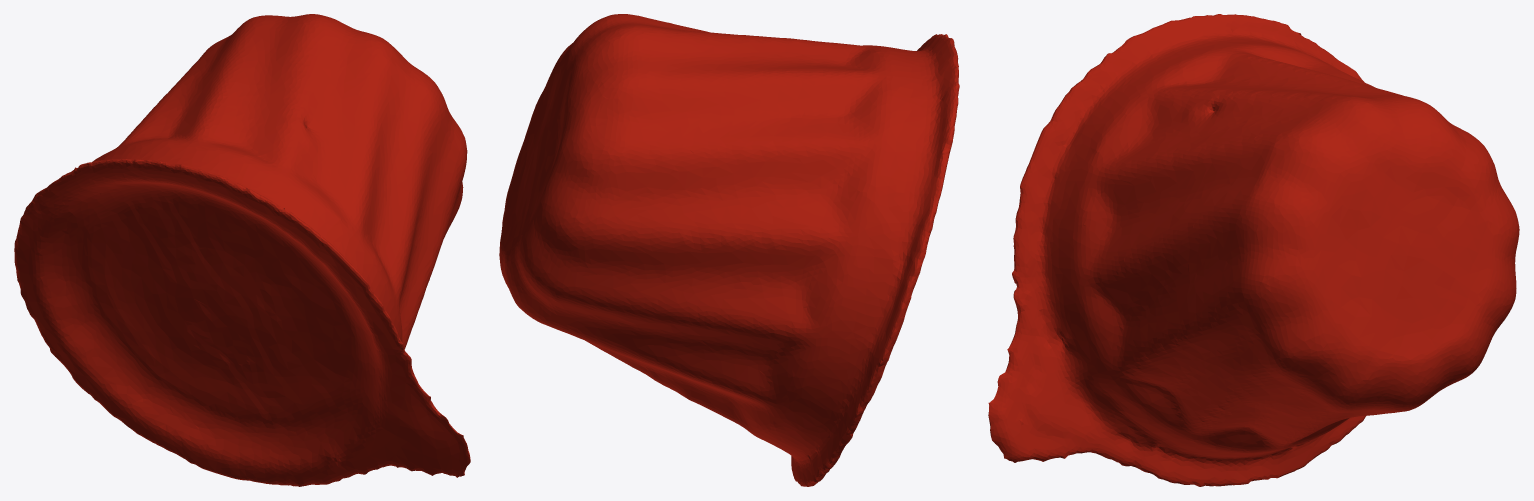
File: ChocoIcing_25k1.fbx
3 renders of one model, left to right at view 1: azimuth 30°, elevation 25°; view 2: azimuth 150°, elevation 25°; view 3: azimuth 270°, elevation 25°, orthographic. The views are drawn at different scales.
Parts seen in each view (by area): view 1: ChocoIcing_25k1; view 2: ChocoIcing_25k1; view 3: ChocoIcing_25k1.
Boxes of the visible parts, x1,y1,x2,y2 form: ChocoIcing_25k1: (14, 14, 470, 486); ChocoIcing_25k1: (499, 14, 959, 486); ChocoIcing_25k1: (988, 14, 1519, 486).
Size of the model in its own units: 3626 by 3492 by 3838.
